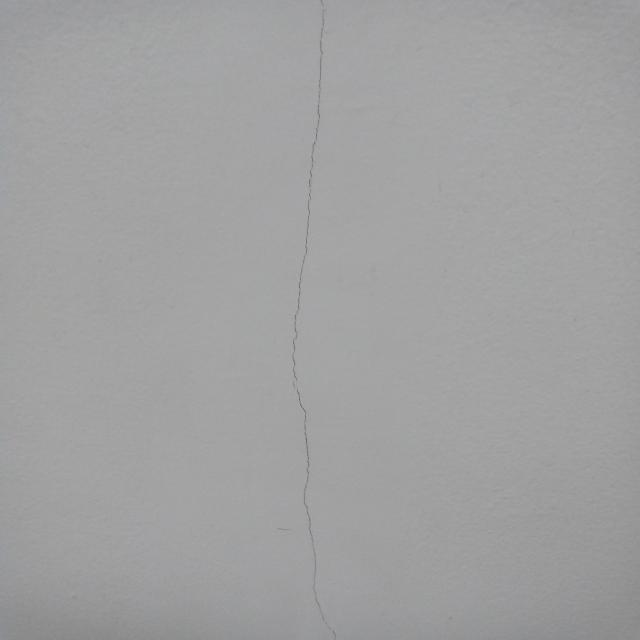Crack: (288, 2, 338, 640)
